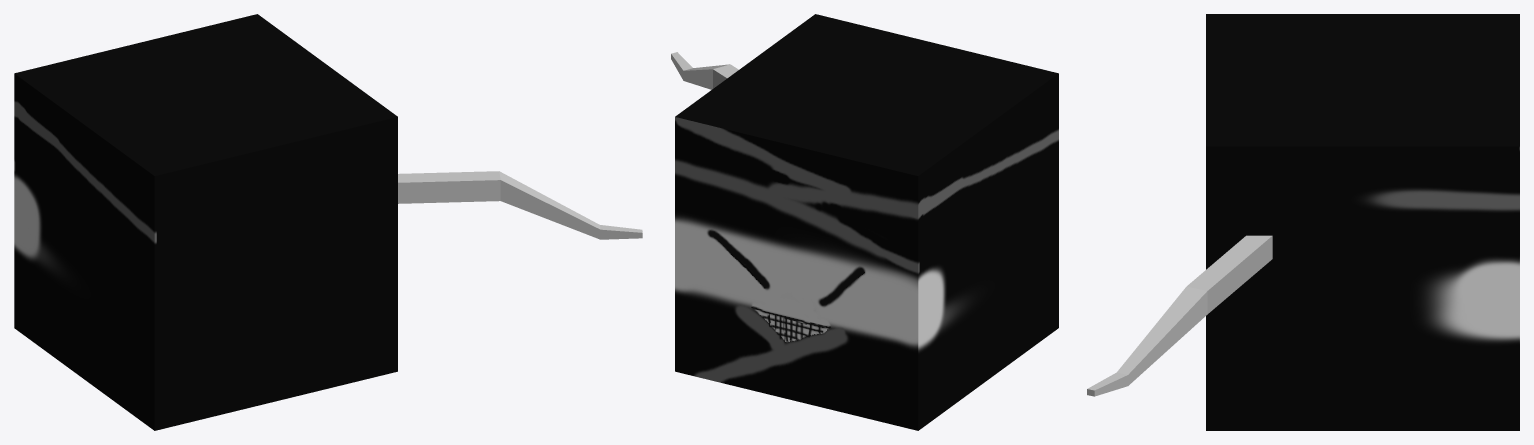
Rendered from Player.obj.
3 renders of one model, left to right at view 1: azimuth 30°, elevation 25°; view 2: azimuth 150°, elevation 25°; view 3: azimuth 270°, elevation 25°, orthographic. The views are drawn at different scales.
Parts seen in each view (by area): view 1: Cube, 立方体; view 2: Cube, 立方体; view 3: Cube, 立方体.
Boxes of the visible parts, bbox=[...] form: Cube: bbox=[14, 14, 397, 430]; 立方体: bbox=[398, 171, 642, 239]; Cube: bbox=[675, 14, 1058, 430]; 立方体: bbox=[671, 52, 738, 89]; Cube: bbox=[1206, 14, 1519, 430]; 立方体: bbox=[1087, 235, 1272, 396].
Size of the model in its own units: 3.6 by 2 by 2.76.
Materials: 2 (1 with a texture image).
